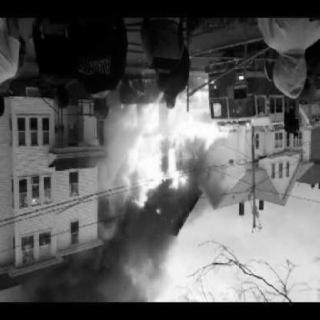Fire: (118, 98, 190, 204)
